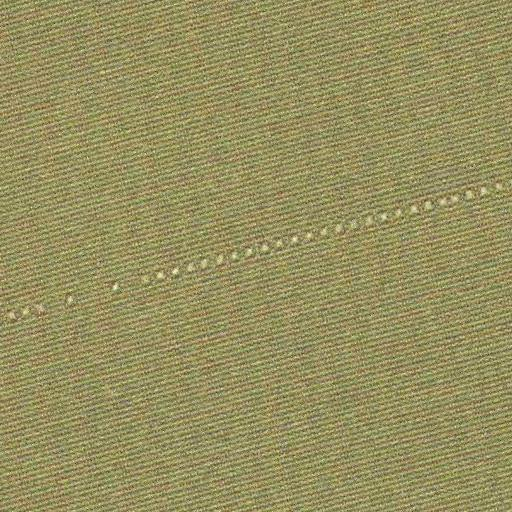slub: (5, 170, 510, 331)
